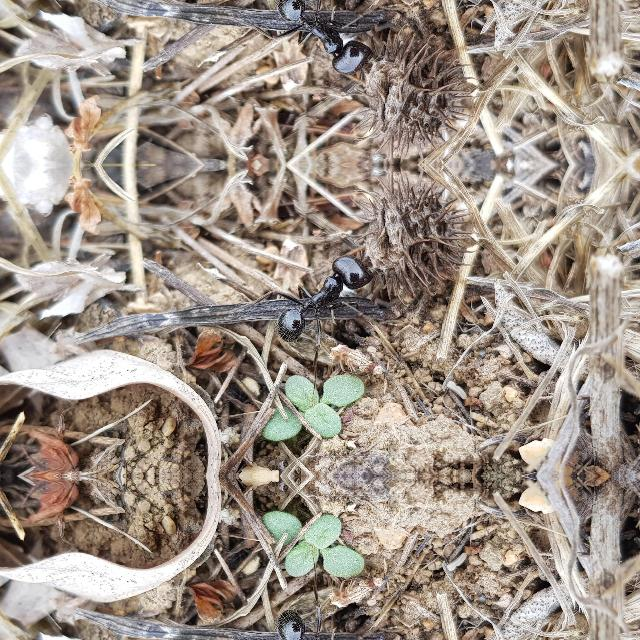Messor: (266, 242, 374, 352), (266, 0, 374, 86), (266, 597, 374, 640)
